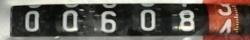digits: (139, 9, 156, 30), (61, 10, 78, 31), (100, 10, 116, 32), (178, 10, 195, 30), (24, 10, 40, 31), (218, 18, 232, 35)
